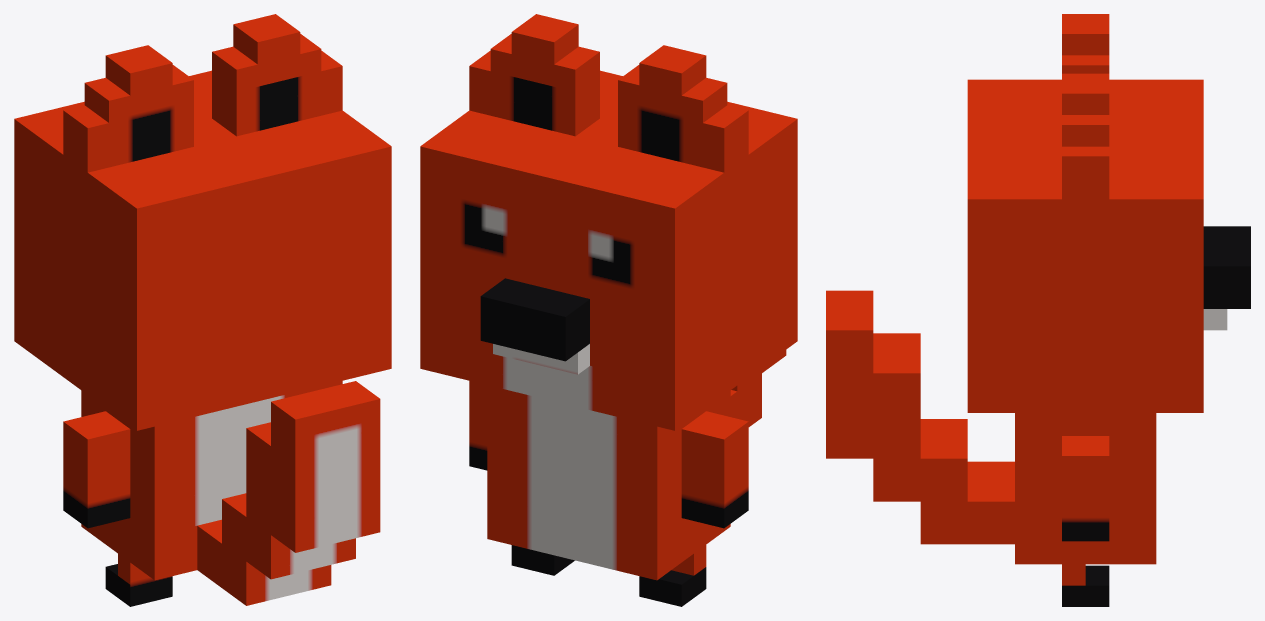
File: FoxKawaiDesune.dae
The picture shows the model from 3 angles, left to right: view 1: azimuth 30°, elevation 25°; view 2: azimuth 150°, elevation 25°; view 3: azimuth 270°, elevation 25°; orthographic projection. The views are drawn at different scales.
Visible parts, largest first — view 1: PinguSimple; view 2: PinguSimple; view 3: PinguSimple.
Part boxes in pixels (x1,y1,x2,y2): PinguSimple: (14, 14, 391, 606); PinguSimple: (420, 14, 797, 606); PinguSimple: (826, 14, 1250, 606).
Size of the model in its own units: 12 by 24 by 18.
